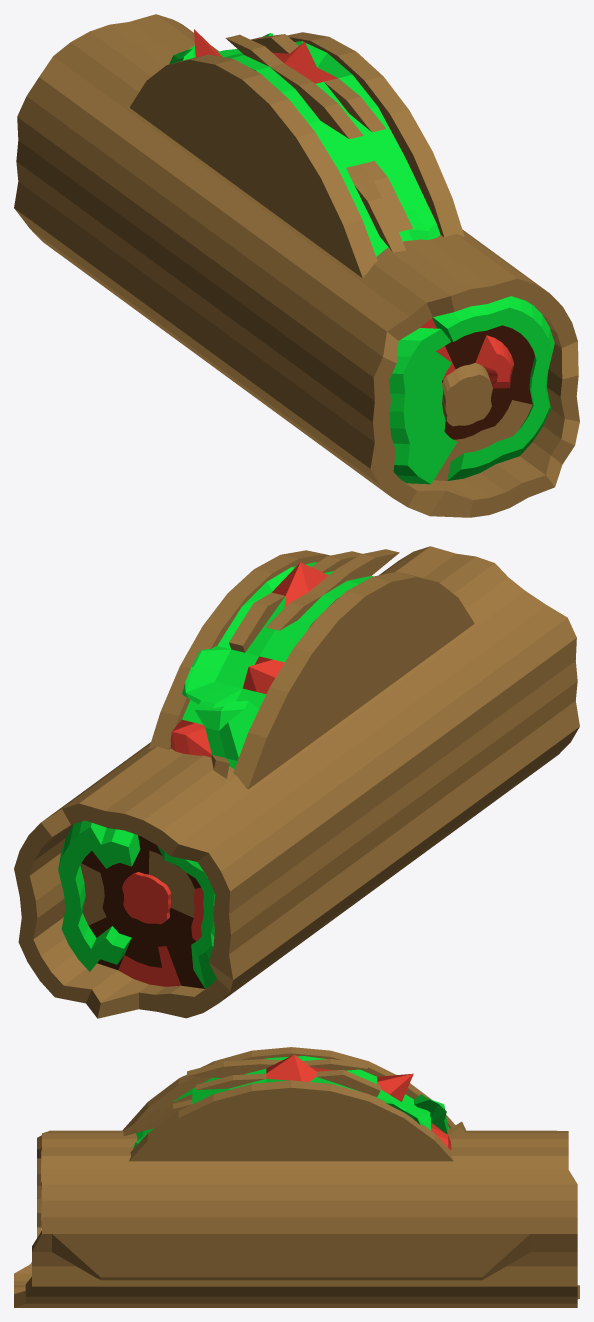
The model's file is BurritoAndTako.fbx.
3 renders of one model, top to bottom at view 1: azimuth 30°, elevation 25°; view 2: azimuth 150°, elevation 25°; view 3: azimuth 270°, elevation 25°, orthographic. The views are drawn at different scales.
Parts seen in each view (by area): view 1: Burrito, TortillaForTako, Tako; view 2: Burrito, TortillaForTako, Tako; view 3: Burrito, TortillaForTako, Tako.
Part boxes in pixels (x1,y1,x2,y2): Burrito: [14, 14, 579, 517]; TortillaForTako: [130, 32, 464, 277]; Tako: [169, 29, 440, 256]; Burrito: [14, 546, 579, 1018]; TortillaForTako: [148, 550, 474, 789]; Tako: [170, 549, 399, 778]; Burrito: [14, 1130, 579, 1307]; TortillaForTako: [122, 1047, 455, 1161]; Tako: [123, 1054, 466, 1150].
Size of the model in its own units: 87.47 by 131 by 279.
